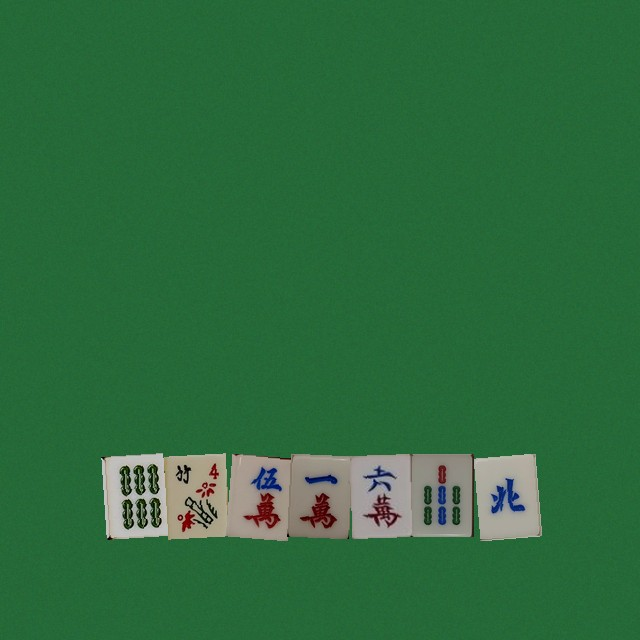tile: (101, 453, 163, 536), (163, 453, 225, 536), (225, 453, 287, 536), (287, 453, 349, 536), (349, 453, 411, 536), (411, 453, 473, 536), (473, 453, 535, 536)
